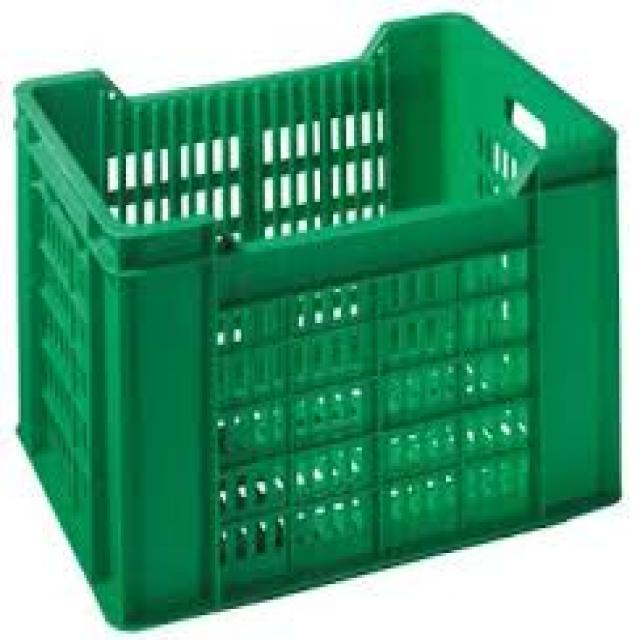basket: (0, 9, 639, 632)
